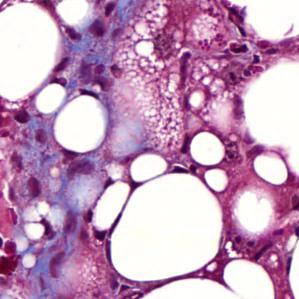steatosis: (110, 170, 226, 282), (190, 130, 231, 166)
